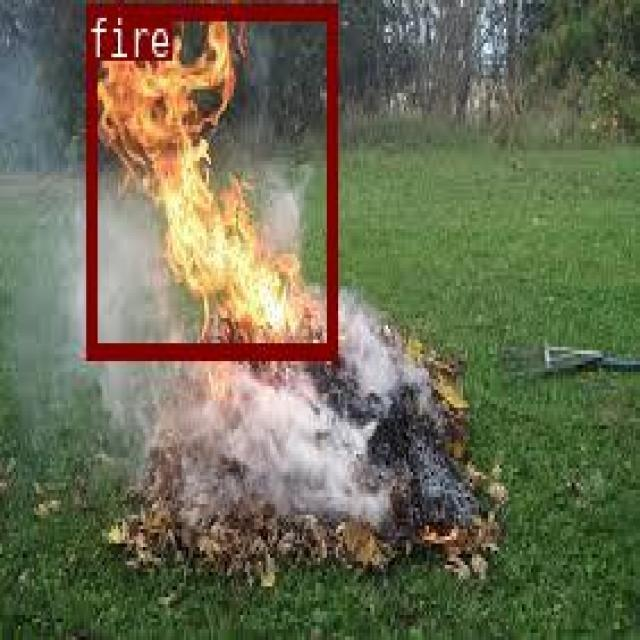fire: (86, 1, 334, 354)
